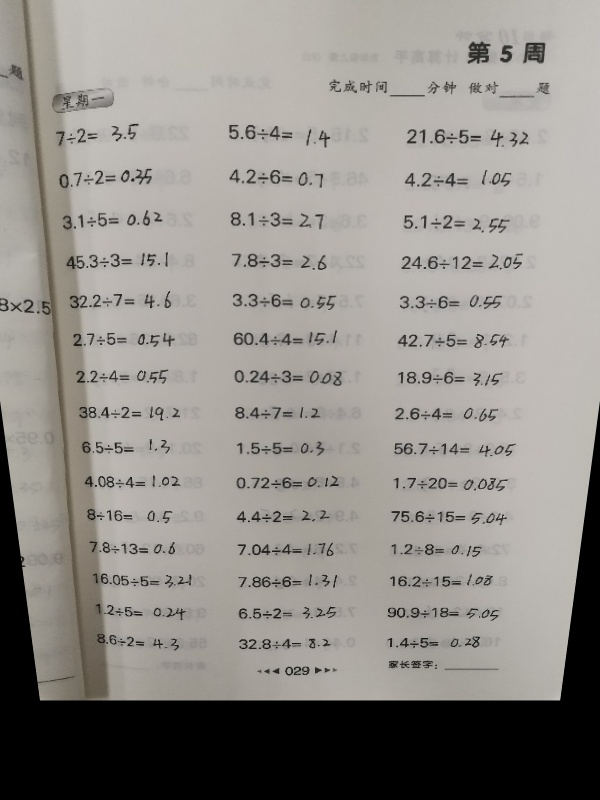equation: (55, 243, 184, 277), (61, 325, 192, 354), (48, 164, 174, 194), (55, 204, 180, 233), (62, 286, 185, 315), (402, 122, 533, 149), (43, 120, 157, 149), (398, 250, 527, 274), (400, 165, 516, 191), (399, 210, 512, 235), (223, 121, 334, 146), (394, 330, 514, 353), (72, 401, 192, 424), (86, 567, 203, 590), (83, 536, 192, 560), (227, 290, 339, 313), (68, 364, 180, 387), (230, 365, 346, 387), (389, 440, 518, 459), (225, 164, 327, 188), (90, 599, 196, 622), (225, 208, 328, 231), (229, 327, 341, 348), (79, 505, 185, 527), (387, 507, 509, 526), (389, 473, 511, 492), (396, 291, 506, 312), (226, 250, 329, 272), (77, 435, 180, 457), (392, 367, 505, 387), (77, 471, 188, 491), (391, 404, 501, 423), (383, 604, 502, 621), (231, 473, 342, 491), (234, 438, 329, 459), (386, 570, 496, 588), (235, 540, 337, 559), (234, 572, 340, 590), (91, 631, 191, 650), (231, 403, 323, 423), (233, 604, 339, 621), (232, 507, 332, 525), (384, 633, 483, 650), (387, 541, 483, 558), (235, 636, 333, 651)
